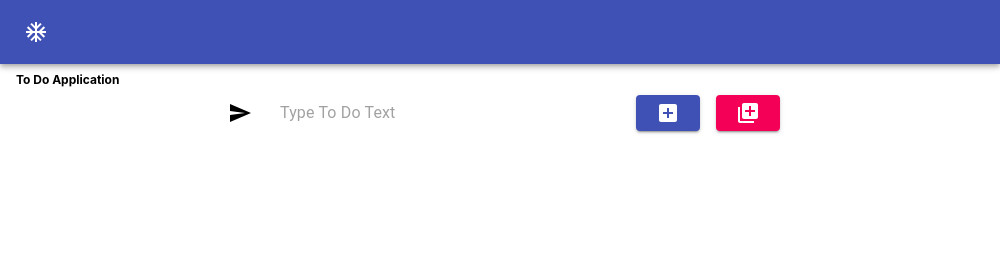
Test: ToDos Tests - Poorly Written › Should allow create of a new todos, and keep text if click add
Type "Test Text" into the field with placeholder "Type To Do Text" at (436, 113), box [280,97,592,129]
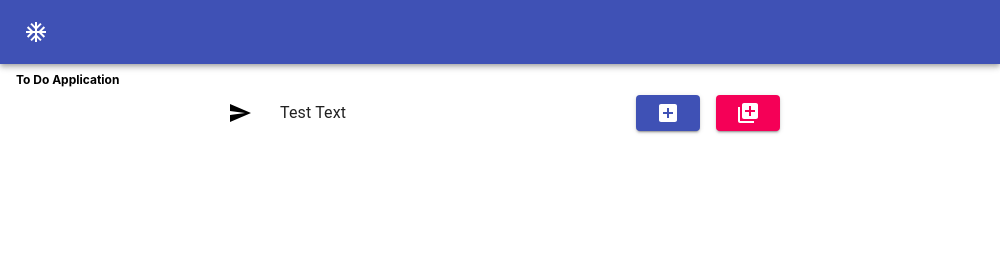
Click the button with test id "todo-add" at (668, 113), box [636,95,700,131]
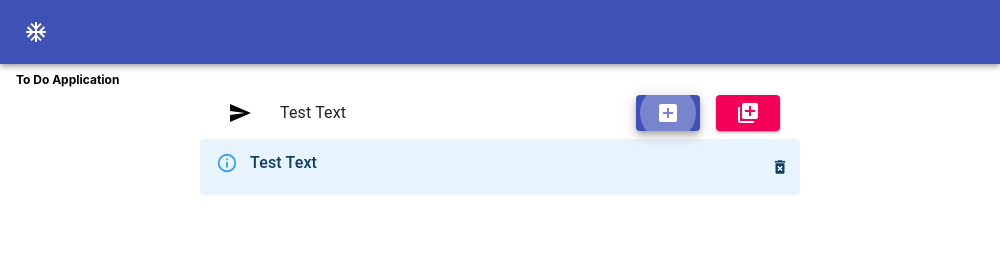
Now the number of elements with test id "todo" is 1, box [200,139,800,195]
Now the text "Test Text" is shown, box [250,151,317,175]
Type " 2" into the field named "search" at (436, 113), box [280,97,592,129]
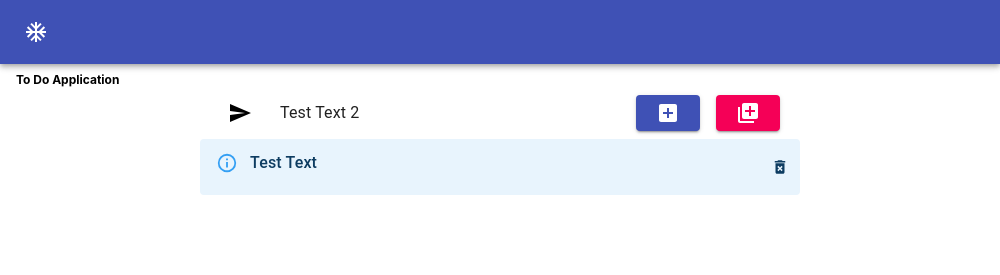
Click the button with test id "todo-add" at (668, 113), box [636,95,700,131]
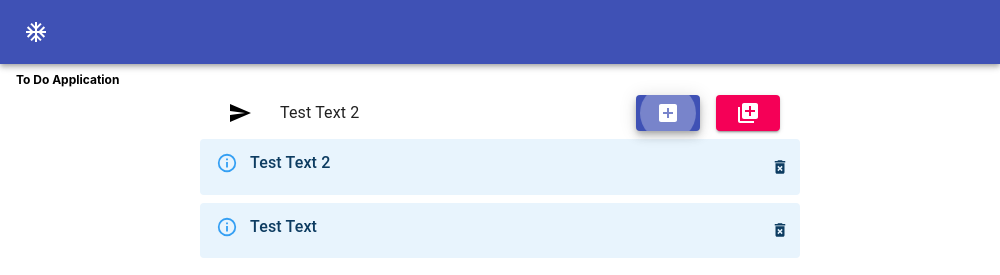
Now the text "Test Text 2" is shown, box [250,151,330,175]
